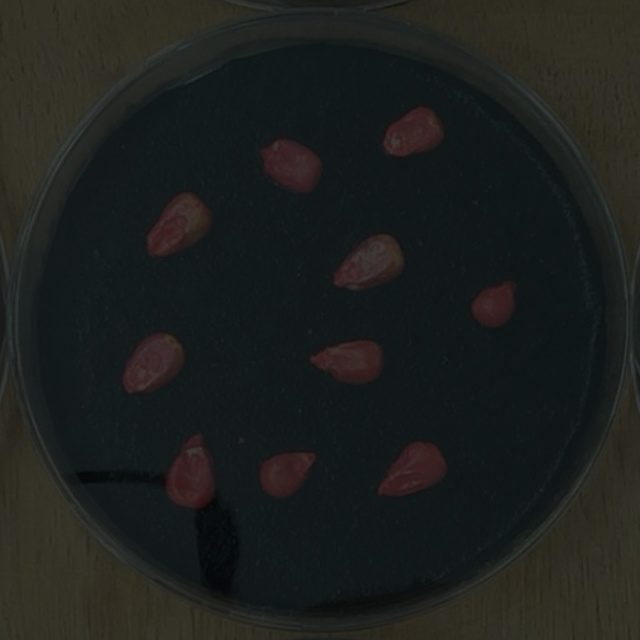Zea mays: (138, 183, 221, 266), (324, 225, 414, 300), (113, 324, 193, 404), (157, 423, 223, 515), (300, 328, 390, 394), (370, 435, 455, 503), (251, 133, 329, 204), (374, 100, 452, 165), (253, 441, 324, 506), (464, 273, 524, 337)
